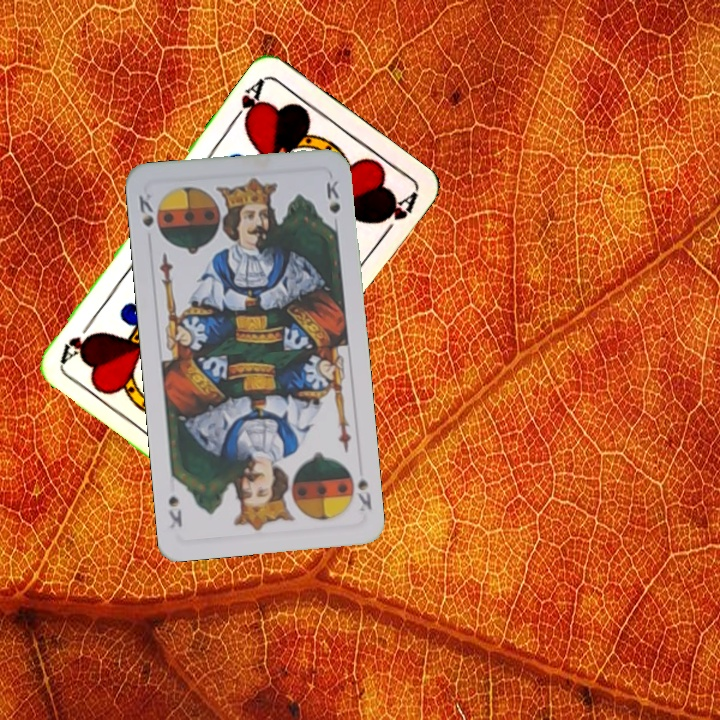HA: (226, 74, 267, 129)
SK: (344, 463, 374, 514), (135, 189, 156, 230)
